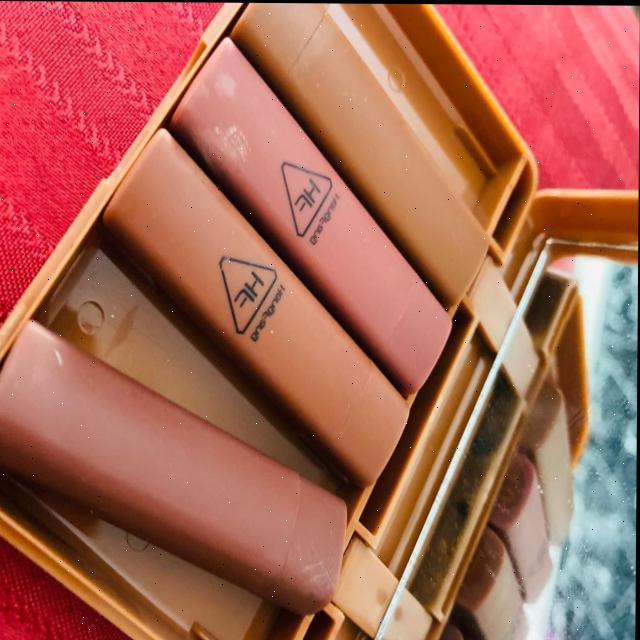lip stick: (0, 0, 494, 626)
